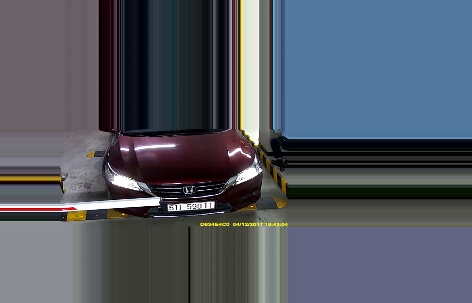plate: (166, 201, 215, 210)
